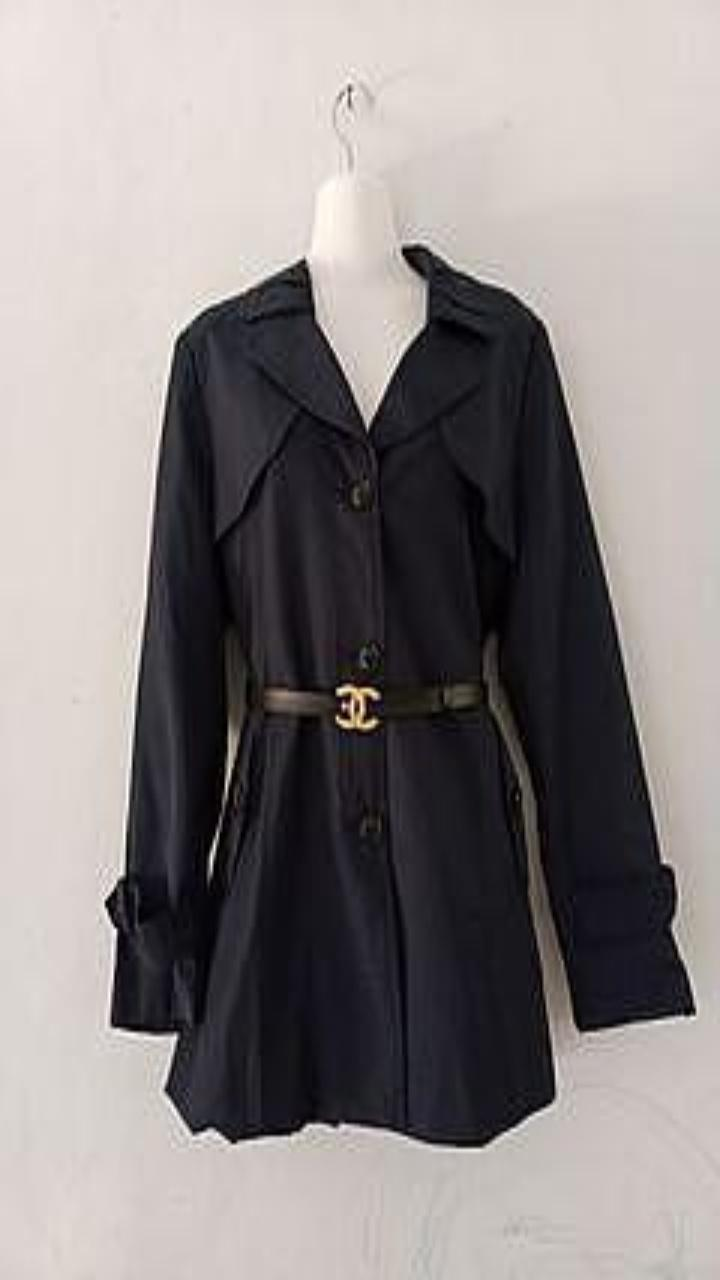Coat: (105, 242, 694, 1143)
